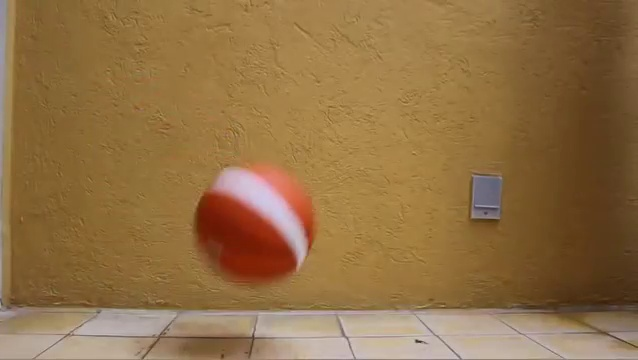ball: (192, 160, 316, 288)
